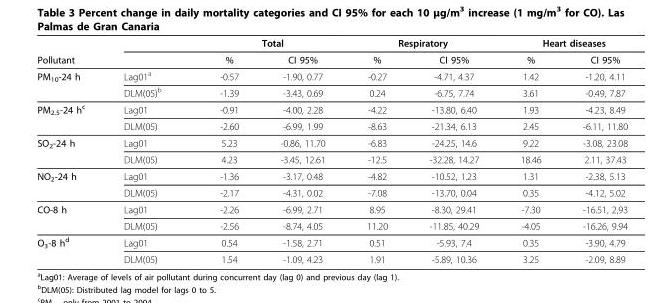table: (36, 36, 626, 264)
table column: (407, 36, 498, 264), (258, 36, 345, 264), (103, 36, 189, 264), (189, 36, 258, 264), (36, 36, 103, 264), (561, 36, 626, 264), (498, 36, 561, 264), (345, 36, 407, 264)
table column header: (36, 36, 626, 66)
table row: (36, 100, 626, 118), (36, 233, 626, 251), (36, 66, 626, 83), (36, 83, 626, 100), (36, 134, 626, 151), (36, 167, 626, 184), (36, 200, 626, 217), (36, 118, 626, 134), (36, 151, 626, 167), (36, 184, 626, 200), (36, 217, 626, 233), (36, 36, 626, 51), (36, 51, 626, 66), (36, 251, 626, 264)
table spanning cell: (189, 36, 345, 51), (345, 36, 498, 51), (36, 66, 103, 100), (36, 100, 103, 134), (36, 134, 103, 167), (36, 167, 103, 200), (36, 200, 103, 233), (36, 233, 103, 264), (36, 36, 103, 66), (498, 36, 626, 51)
